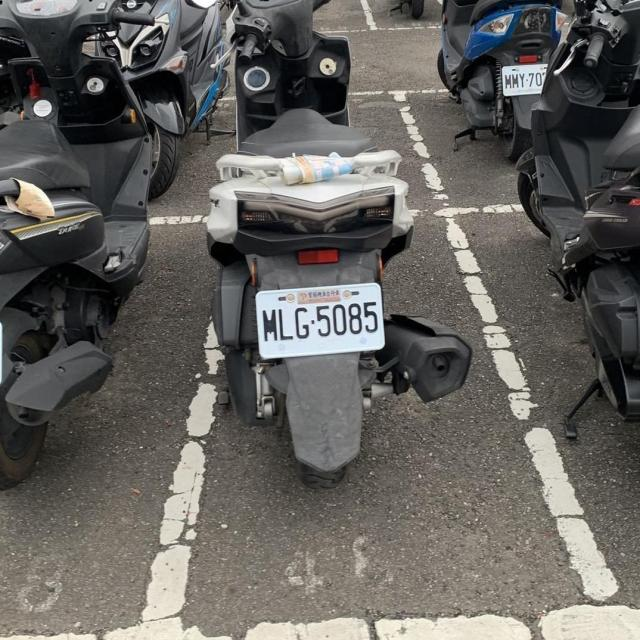W: (248, 277, 389, 361)
